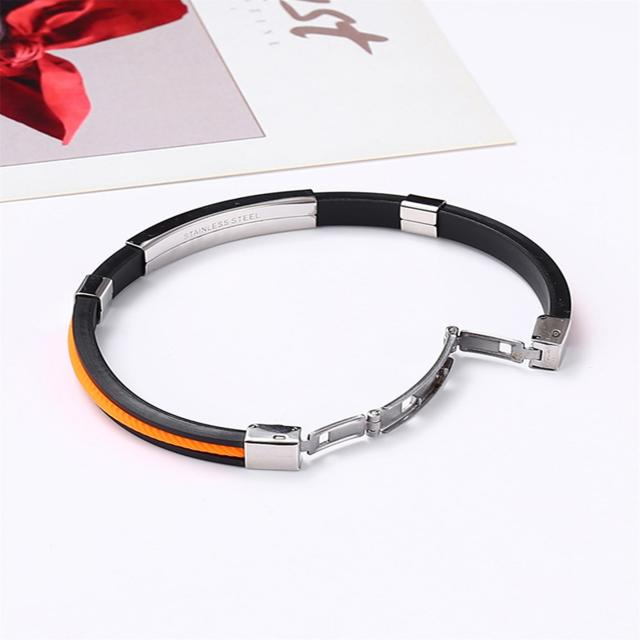bracelet: (35, 134, 630, 503)
